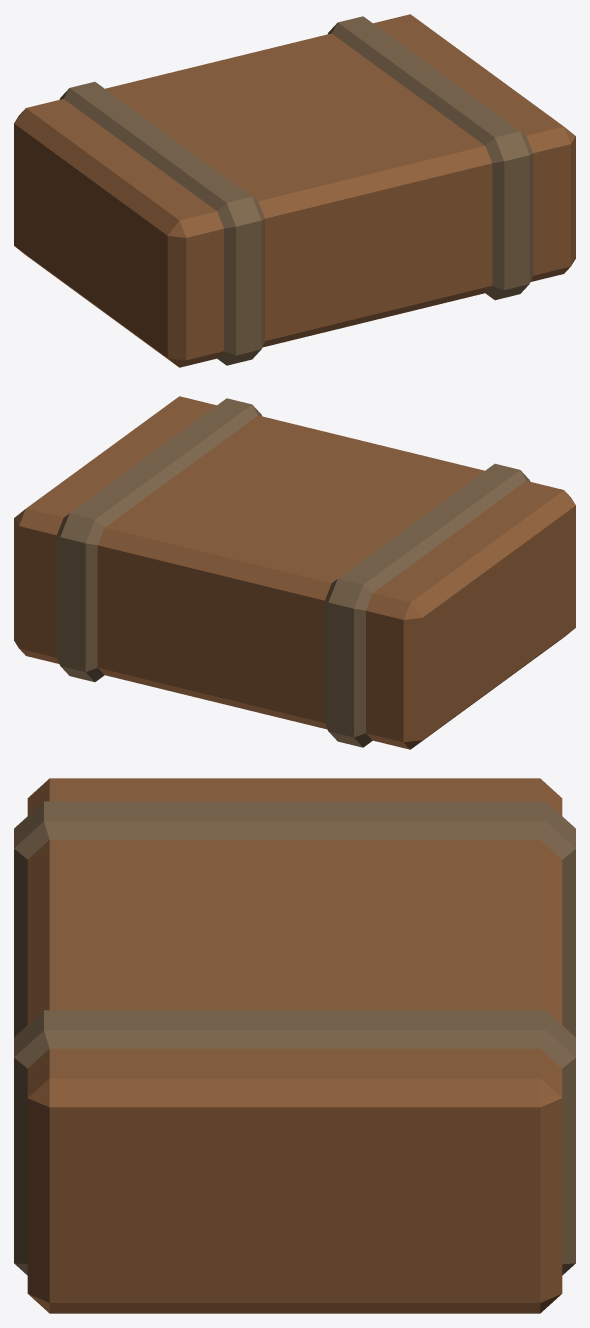
Rendered from LargeCase.fbx.
The picture shows the model from 3 angles, top to bottom: view 1: azimuth 30°, elevation 25°; view 2: azimuth 150°, elevation 25°; view 3: azimuth 270°, elevation 25°; orthographic projection. The views are drawn at different scales.
Parts seen in each view (by area): view 1: LargeCase; view 2: LargeCase; view 3: LargeCase.
Part boxes in pixels (bbox=[...]): LargeCase: bbox=[14, 14, 575, 367]; LargeCase: bbox=[14, 396, 575, 749]; LargeCase: bbox=[14, 778, 575, 1313].
Bounding box in the file's own units: 76.58 × 29.18 × 57.13.
